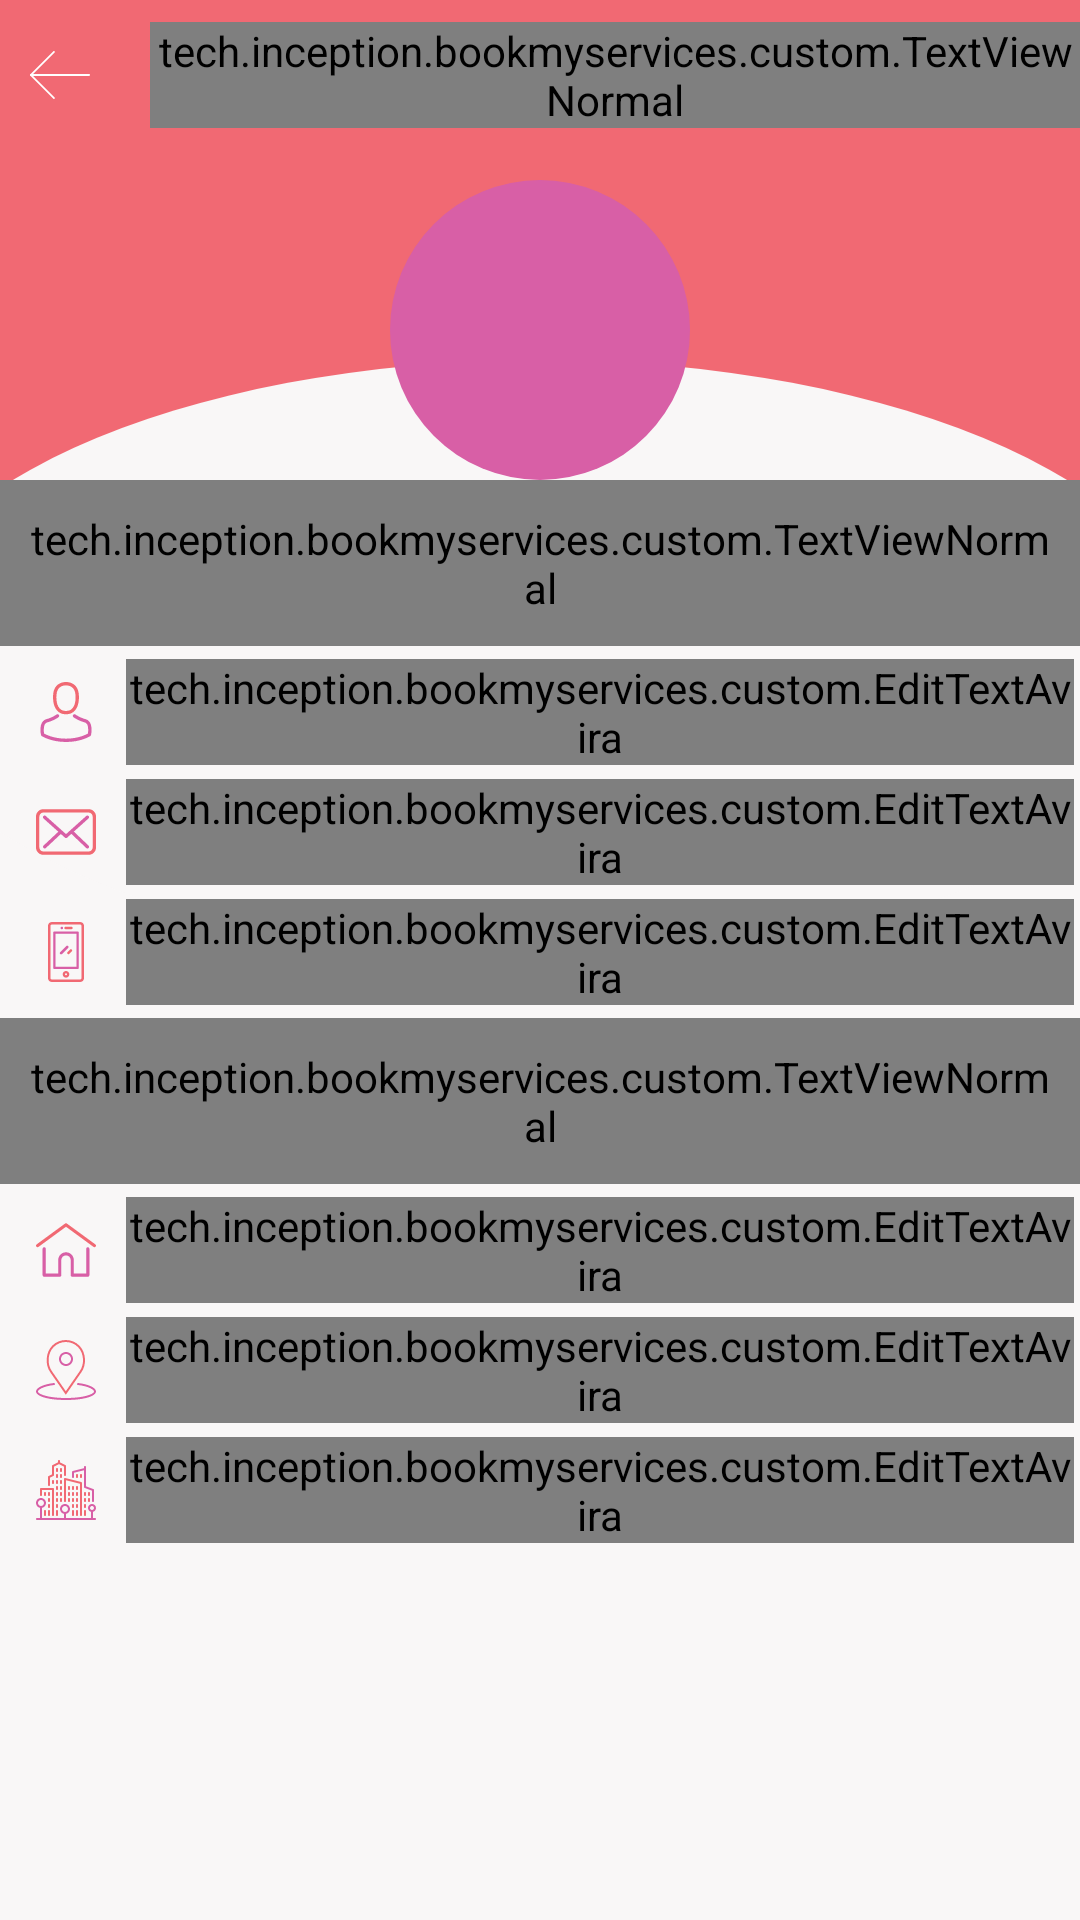

Named icons in this screenshot (1080×1920) and their centers, [x,y]:
back: [60,75]
smartphone: [66,952]
user: [66,712]
